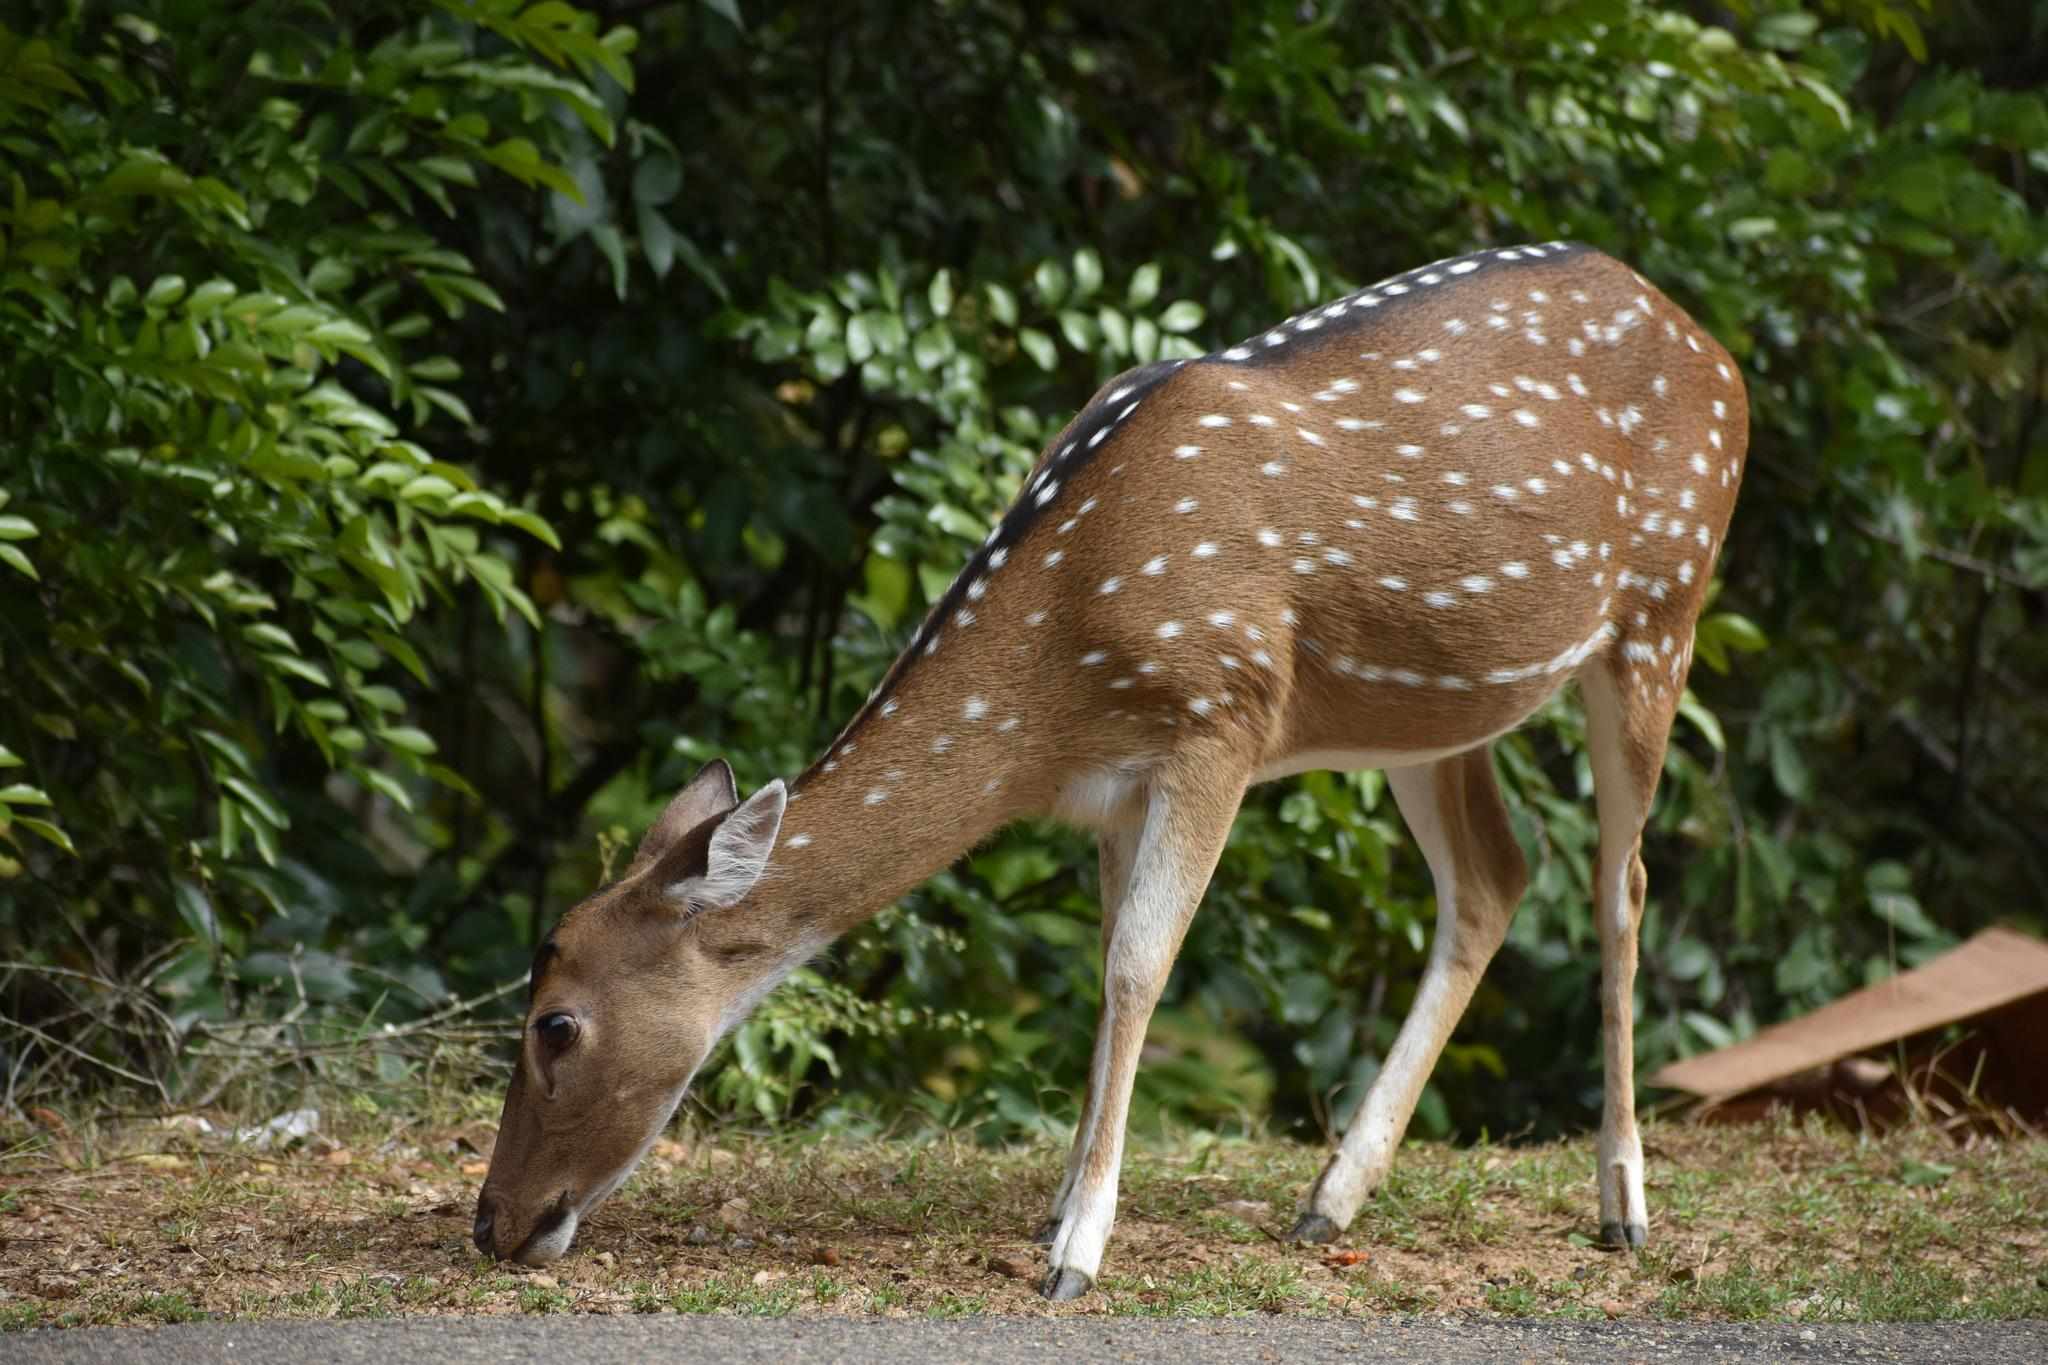Deer: (480, 244, 1747, 1298)
